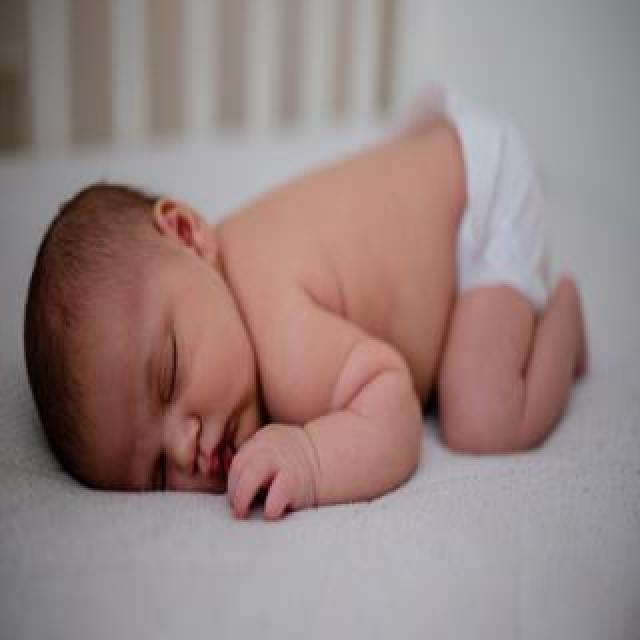baby: (30, 98, 590, 530)
